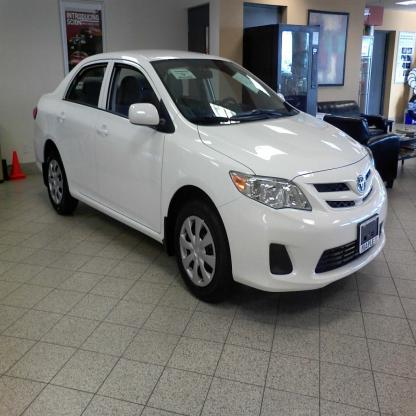Vehicle: (30, 46, 391, 307)
